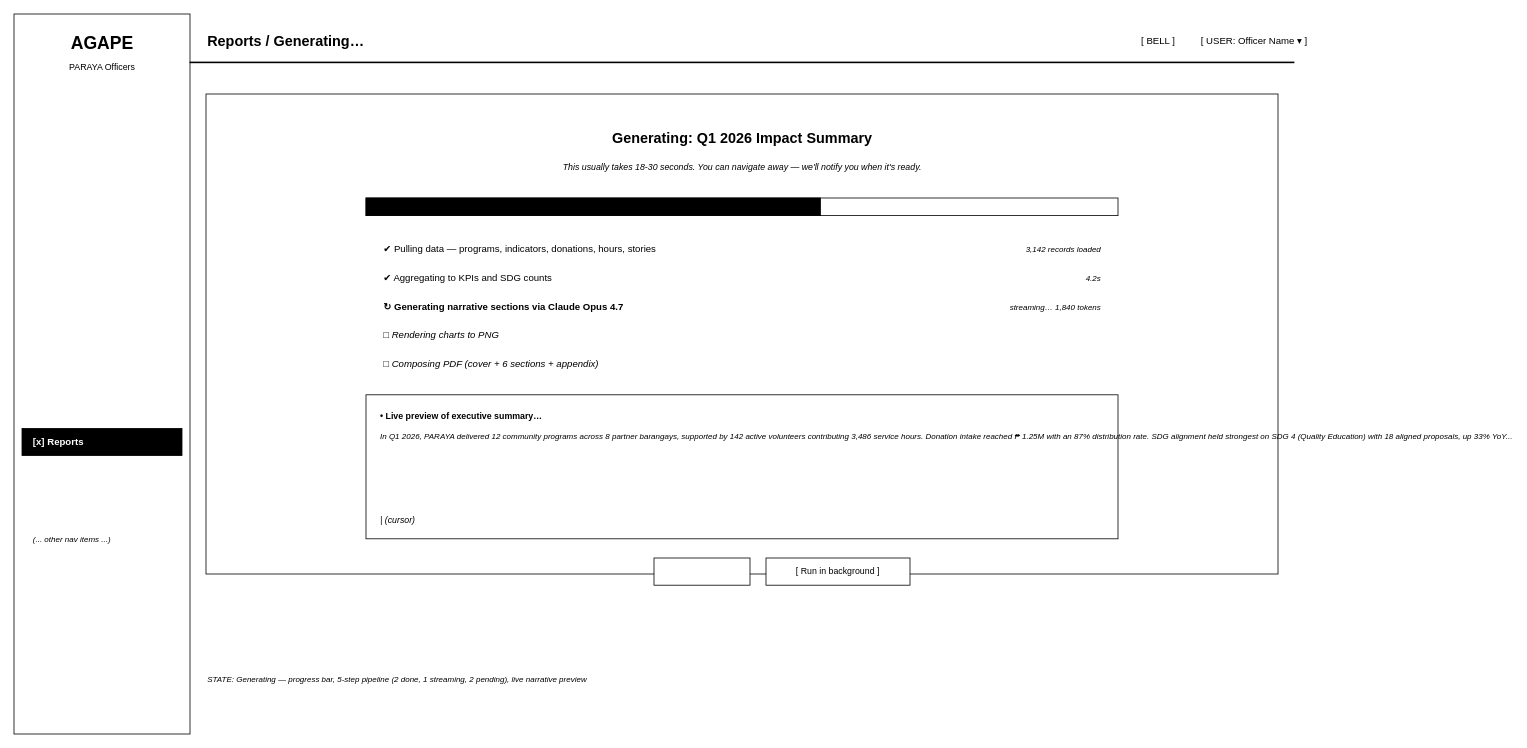
This 1527x748 diagram has some shape labels left out. Each missing label, with the centre of its shape:
60% · step 3 of 5: the point at 592,206
[ Cancel ]: the point at 701,571
